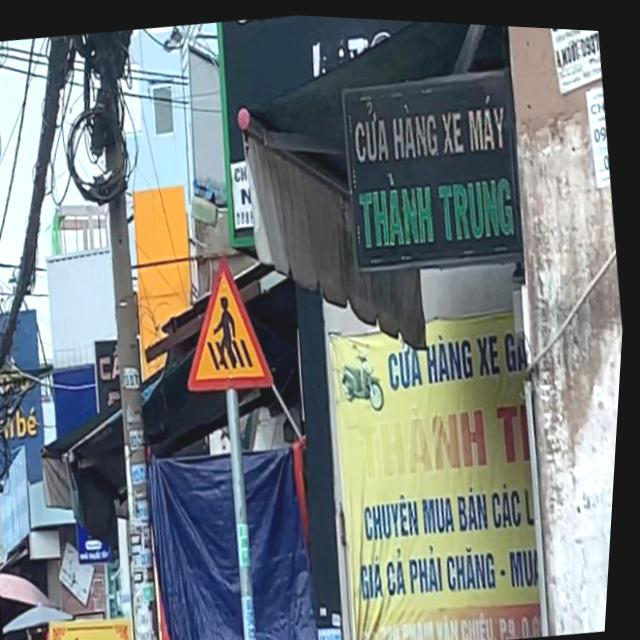Nguoi di bo cat ngang: (174, 245, 286, 396)
